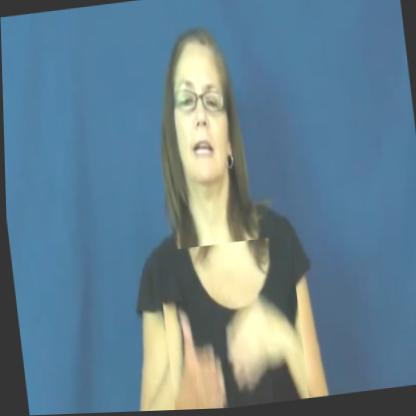Expensive: (155, 236, 307, 412)
